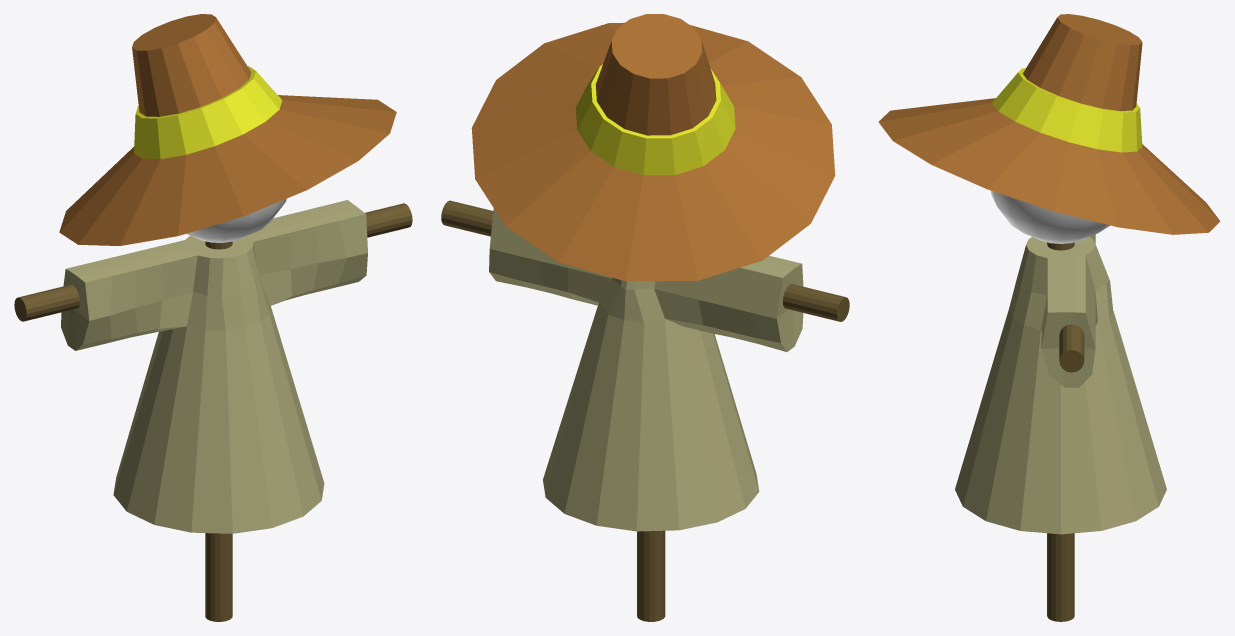
The model's file is scarecrow.fbx.
3 renders of one model, left to right at view 1: azimuth 30°, elevation 25°; view 2: azimuth 150°, elevation 25°; view 3: azimuth 270°, elevation 25°, orthographic. The views are drawn at different scales.
Parts seen in each view (by area): view 1: scarecrow; view 2: scarecrow; view 3: scarecrow.
Boxes of the visible parts, x1,y1,x2,y2 form: scarecrow: (14, 14, 412, 621); scarecrow: (441, 14, 849, 621); scarecrow: (878, 14, 1220, 621).
Size of the model in its own units: 419 by 612 by 322.
